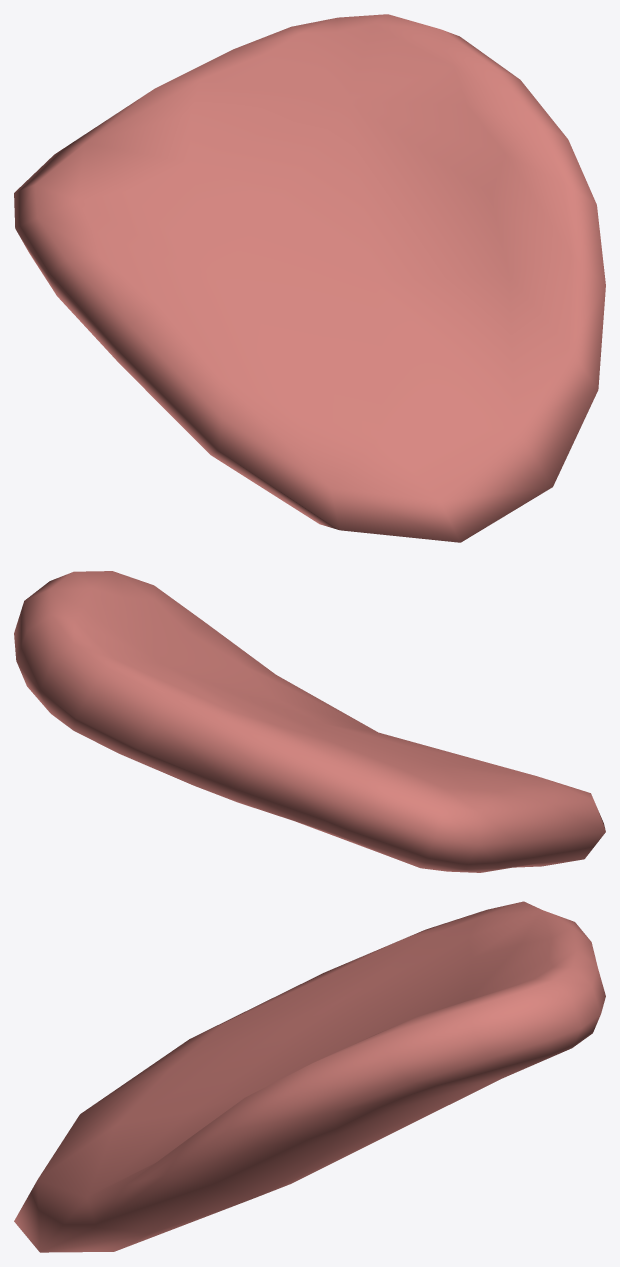
3 views of the same model, one above another, from view 1: azimuth 30°, elevation 25°; view 2: azimuth 150°, elevation 25°; view 3: azimuth 270°, elevation 25° (orthographic). The views are drawn at different scales.
Visible parts, largest first — view 1: ZA_103080198cce1dcb; view 2: ZA_103080198cce1dcb; view 3: ZA_103080198cce1dcb.
Part boxes in pixels (left/top/right/bottom): ZA_103080198cce1dcb: left=14, top=14, right=605, bottom=542; ZA_103080198cce1dcb: left=14, top=571, right=605, bottom=872; ZA_103080198cce1dcb: left=14, top=901, right=605, bottom=1252.
Size of the model in its own units: 0.00325 by 0.00216 by 0.00356.
